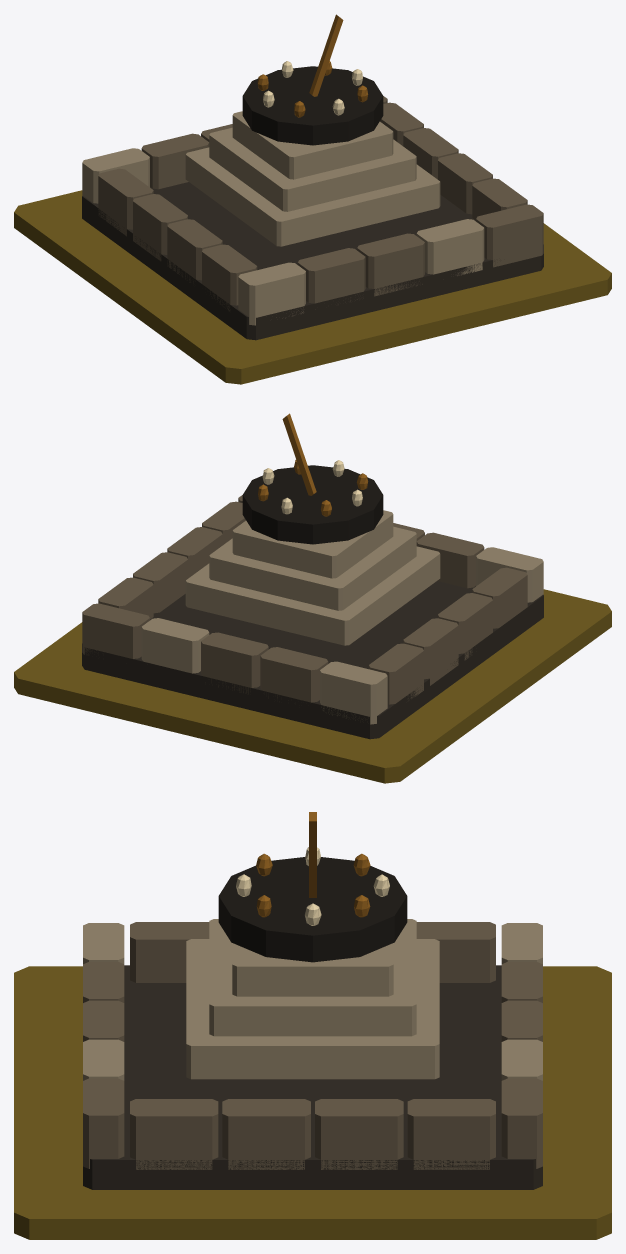
The model's file is moon-dial_t1.glb.
The picture shows the model from 3 angles, top to bottom: view 1: azimuth 30°, elevation 25°; view 2: azimuth 150°, elevation 25°; view 3: azimuth 270°, elevation 25°; orthographic projection. The views are drawn at different scales.
Visible parts, largest first — view 1: MMR | moon-dial | T01 Architecture.001, MMR | moon-dial | Tier 01 Ground.001; view 2: MMR | moon-dial | T01 Architecture.001, MMR | moon-dial | Tier 01 Ground.001; view 3: MMR | moon-dial | T01 Architecture.001, MMR | moon-dial | Tier 01 Ground.001.
Part boxes in pixels (x1,y1,x2,y2): MMR | moon-dial | T01 Architecture.001: (82, 14, 543, 340); MMR | moon-dial | Tier 01 Ground.001: (14, 190, 611, 384); MMR | moon-dial | T01 Architecture.001: (82, 413, 543, 739); MMR | moon-dial | Tier 01 Ground.001: (14, 589, 611, 783); MMR | moon-dial | T01 Architecture.001: (83, 812, 542, 1189); MMR | moon-dial | Tier 01 Ground.001: (14, 966, 611, 1239).
Bounding box in the file's own units: 1.3 × 0.7614 × 1.3.
Materials: 1 (1 with a texture image).
